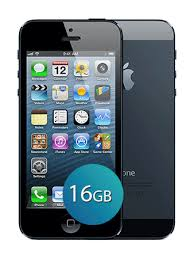iphone5: (14, 14, 178, 243), (15, 14, 123, 241)
